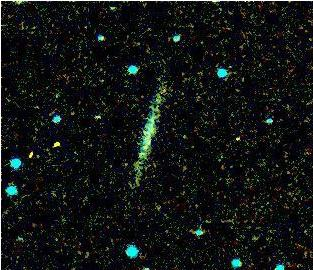star: (2, 0, 32, 16)
